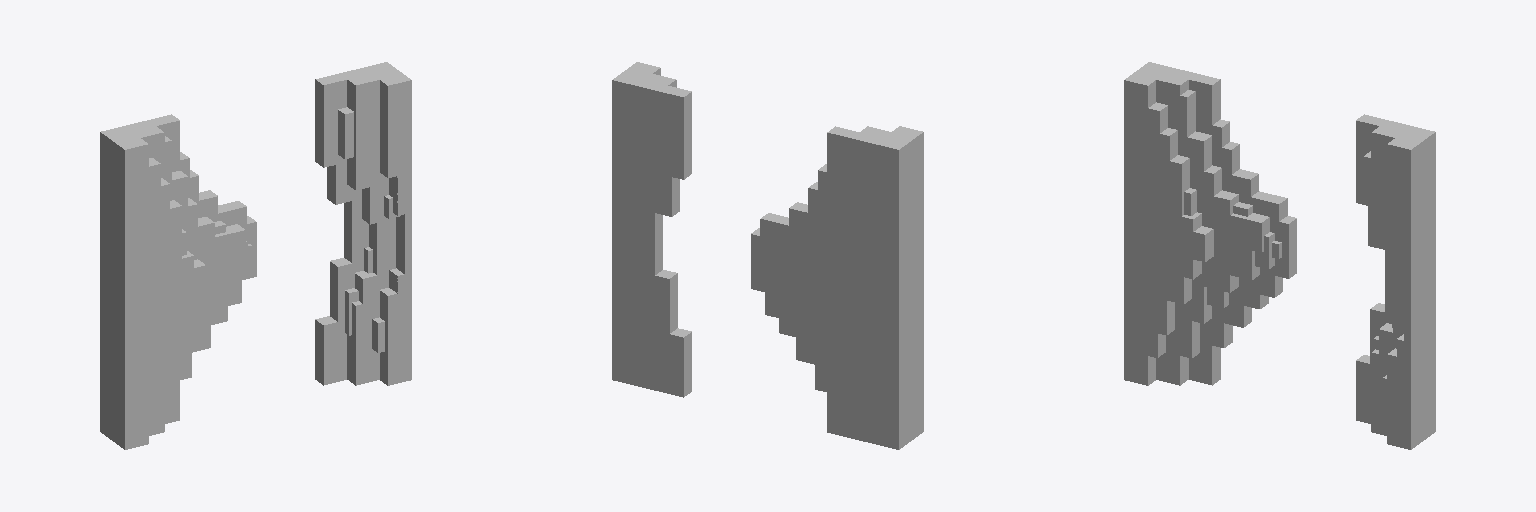
File: wibble.obj
The picture shows the model from 3 angles: view 1: azimuth 30°, elevation 25°; view 2: azimuth 150°, elevation 25°; view 3: azimuth 330°, elevation 25°; orthographic projection.
Bounding box in the file's own units: 120 × 120 × 18.